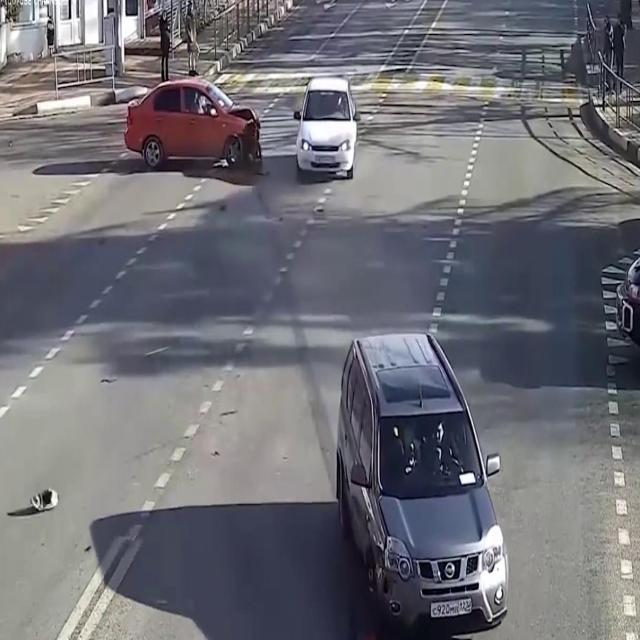accident: (286, 301, 522, 640), (116, 66, 278, 190)
